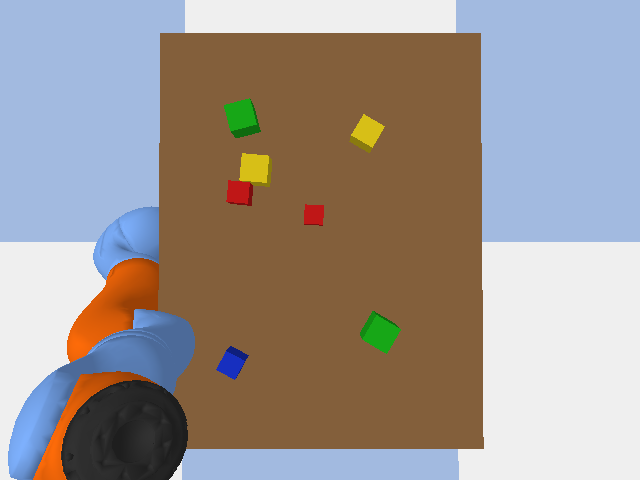blue_obj: (216, 346, 248, 379)
green_obj: (360, 311, 400, 353), (224, 98, 260, 137)
red_obj: (226, 180, 252, 205), (304, 204, 323, 225)
yellow_obj: (349, 114, 384, 152), (239, 153, 271, 186)
